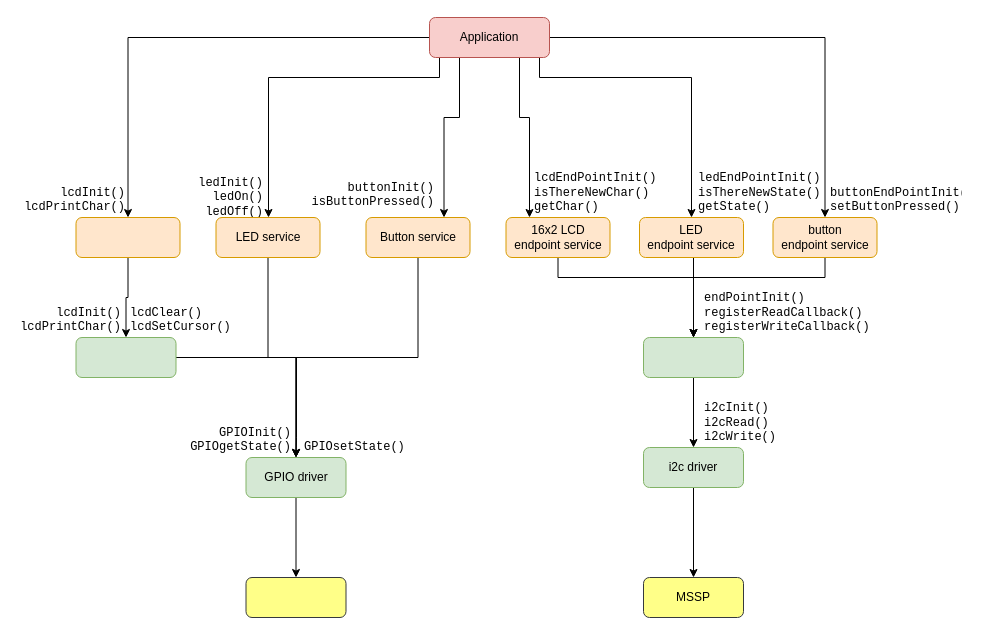
Some shapes in this 991 by 635 pixel diagram are drawn without their labels. Here are the shapes that lost their labels. From the top down, the centre of each, then its label:
At [127,237]: "16x2 LCD service".
At [125,357]: "16x2 LCD driver".
At [693,357]: "endpoint driver".
At [295,597]: "GPIO".
